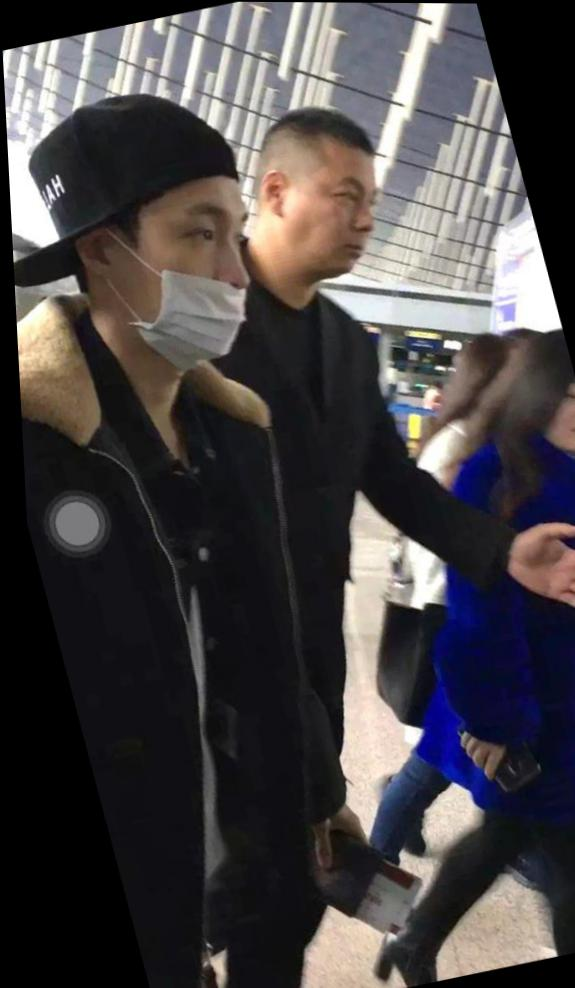NONE: (273, 151, 394, 286), (520, 374, 575, 460)
WRONG: (96, 199, 282, 376)
